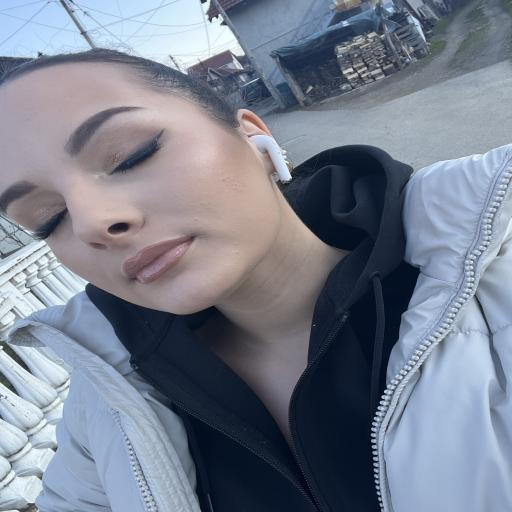marija: (0, 56, 269, 316)
